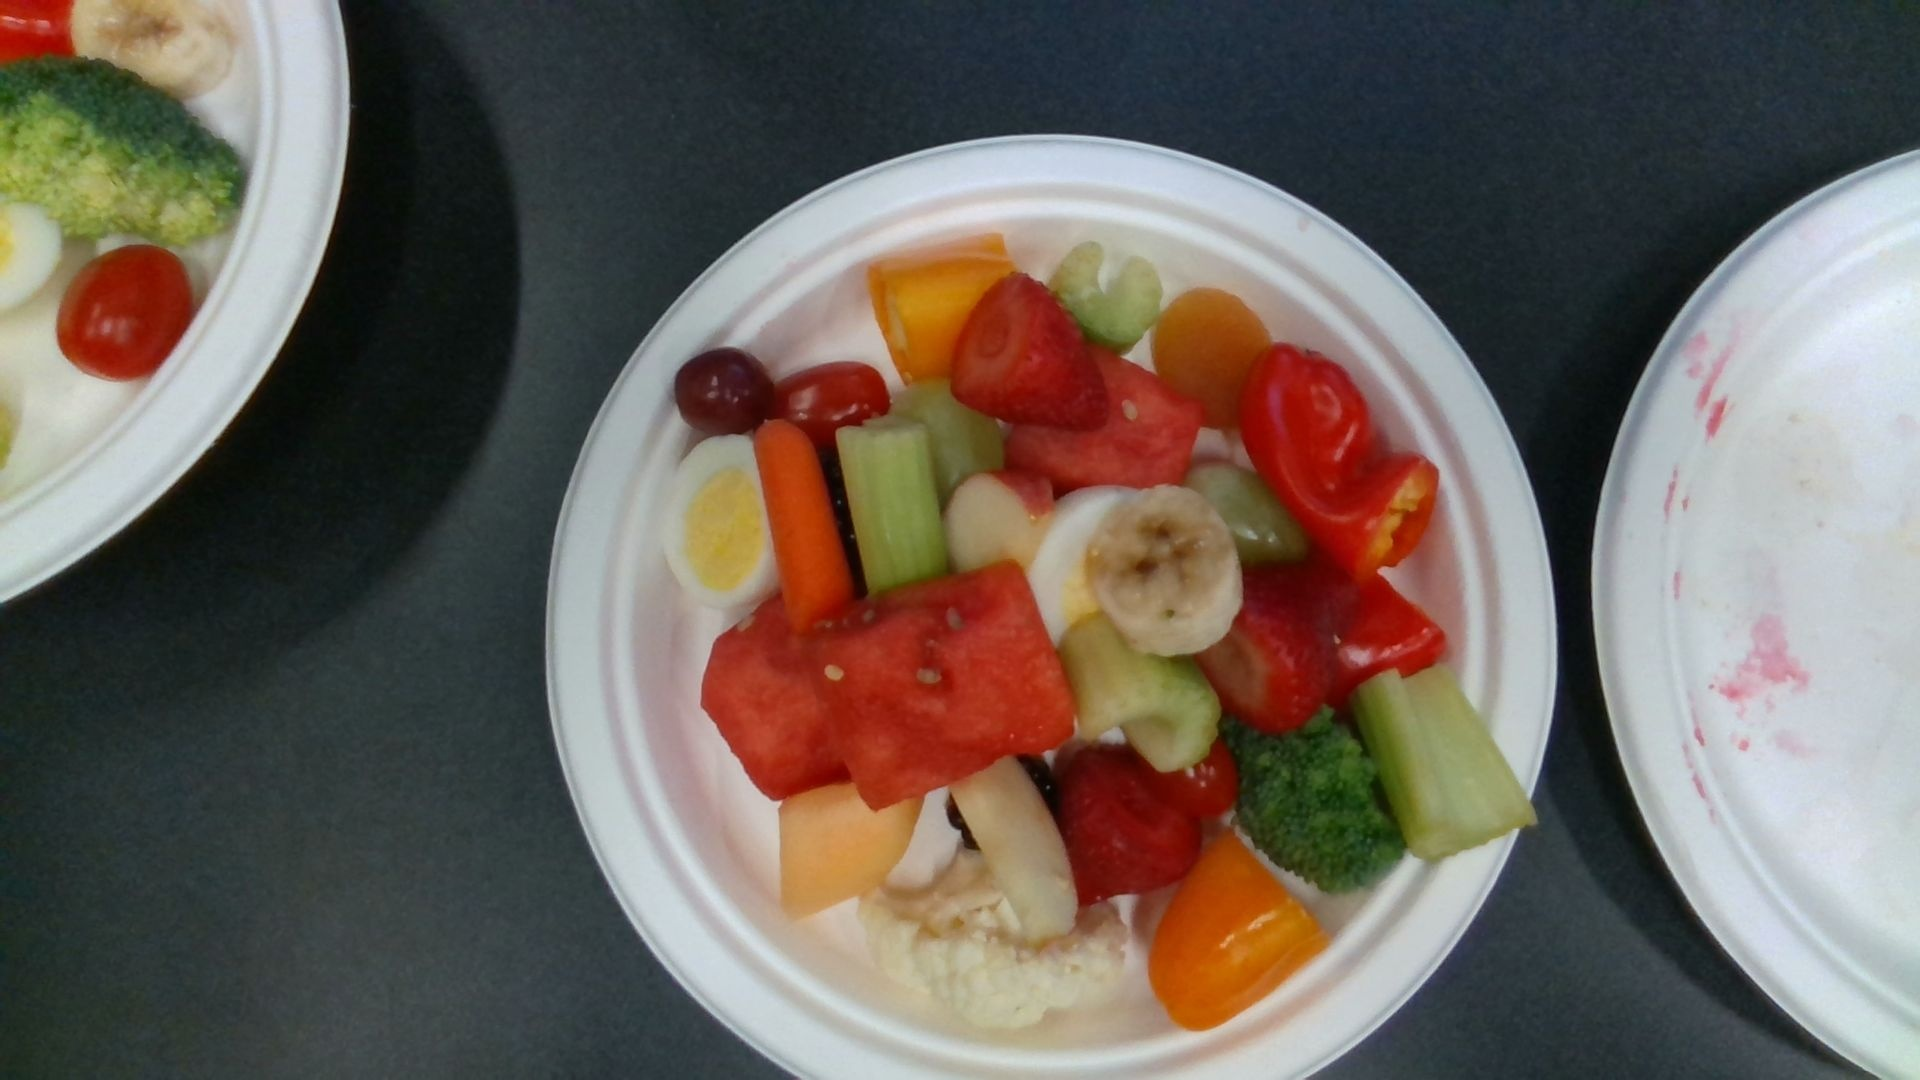apple: (949, 760, 1079, 942)
apricot: (1154, 291, 1270, 425)
banana: (1095, 487, 1242, 653)
bell_pepper: (1242, 345, 1440, 574), (1153, 833, 1329, 1029), (866, 237, 1017, 380)
broccoli: (1224, 716, 1407, 891)
cantalope: (782, 783, 920, 916)
carrot: (752, 423, 851, 625)
cauliflower: (860, 851, 1129, 1026)
celery: (1360, 673, 1539, 860), (1060, 616, 1217, 770), (835, 421, 945, 588)
egg: (665, 438, 771, 613)
grape_purple: (674, 349, 770, 433)
melon: (807, 566, 1072, 806), (702, 595, 847, 800), (1009, 348, 1200, 488)
strawberry: (1200, 570, 1360, 731), (952, 273, 1109, 433), (1060, 748, 1200, 910)
